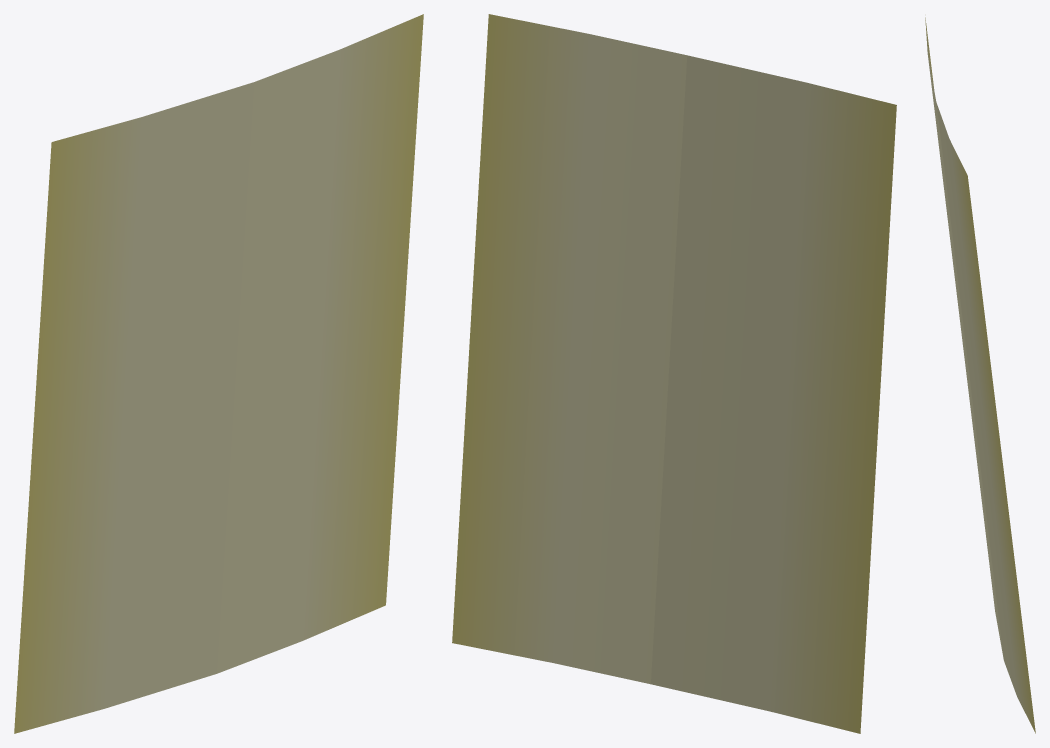
File: WindowBack3.glb
3 views of the same model, side by side, from view 1: azimuth 30°, elevation 25°; view 2: azimuth 150°, elevation 25°; view 3: azimuth 270°, elevation 25° (orthographic). The views are drawn at different scales.
Parts seen in each view (by area): view 1: WindowBack3; view 2: WindowBack3; view 3: WindowBack3.
Part boxes in pixels (x1,y1,x2,y2): WindowBack3: (14,14,423,733); WindowBack3: (452,14,896,733); WindowBack3: (925,17,1035,733).
Size of the model in its own units: 0.8432 by 1.29 by 0.2265.
